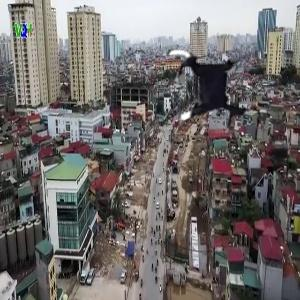drone: (150, 35, 262, 147)
